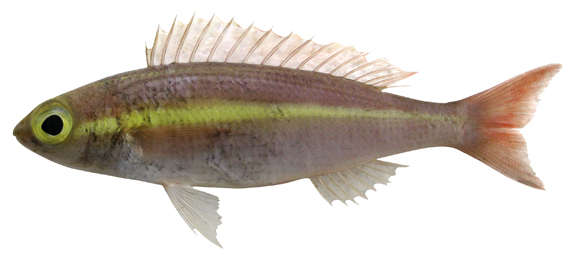fish: (12, 11, 562, 248)
